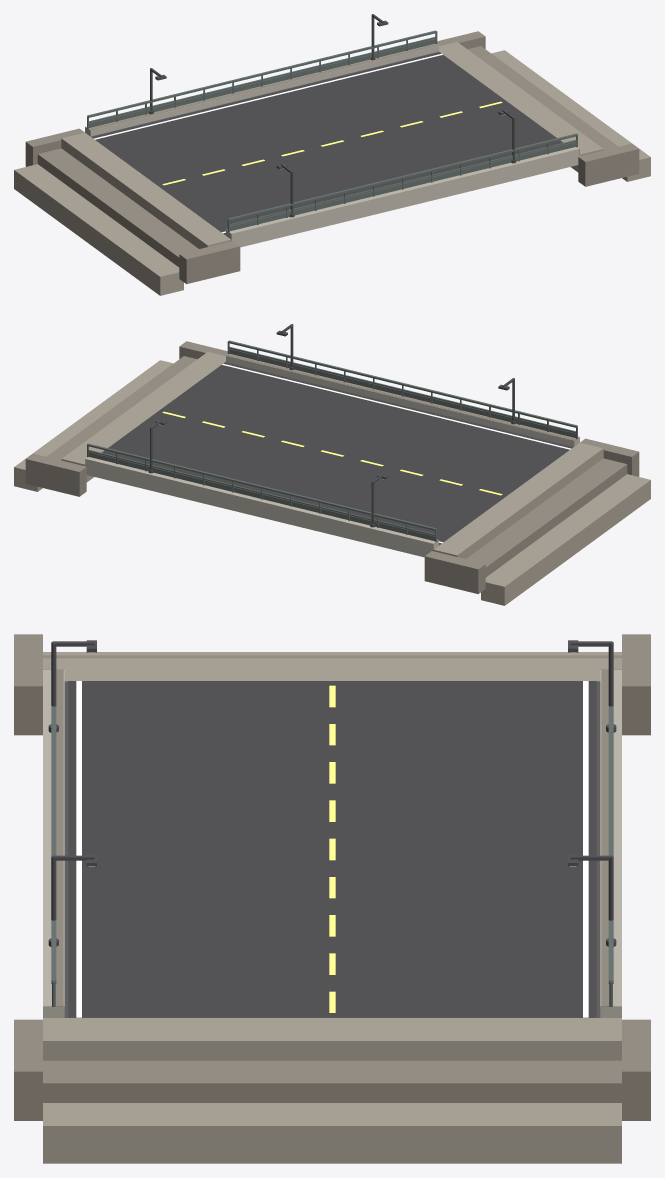
Rendered from jembatan-sungai-blender-v1.glb.
3 views of the same model, one above another, from view 1: azimuth 30°, elevation 25°; view 2: azimuth 150°, elevation 25°; view 3: azimuth 270°, elevation 25° (orthographic). The views are drawn at different scales.
Parts seen in each view (by area): view 1: JembatanSungai; view 2: JembatanSungai; view 3: JembatanSungai.
Part boxes in pixels (x1,y1,x2,y2): JembatanSungai: (14,14,650,295); JembatanSungai: (14,324,650,605); JembatanSungai: (14,634,650,1163).
Size of the model in its own units: 31 by 5.4 by 17.6.
